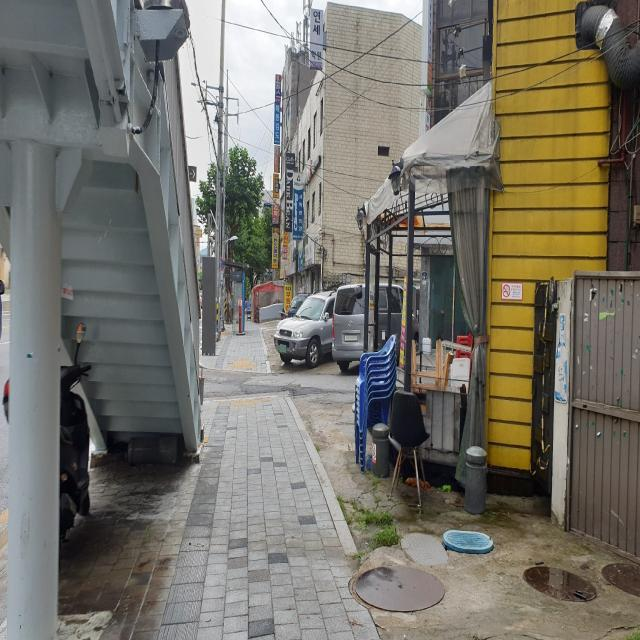car: (332, 283, 419, 372), (274, 290, 338, 369)
motorbike: (60, 361, 91, 535)
